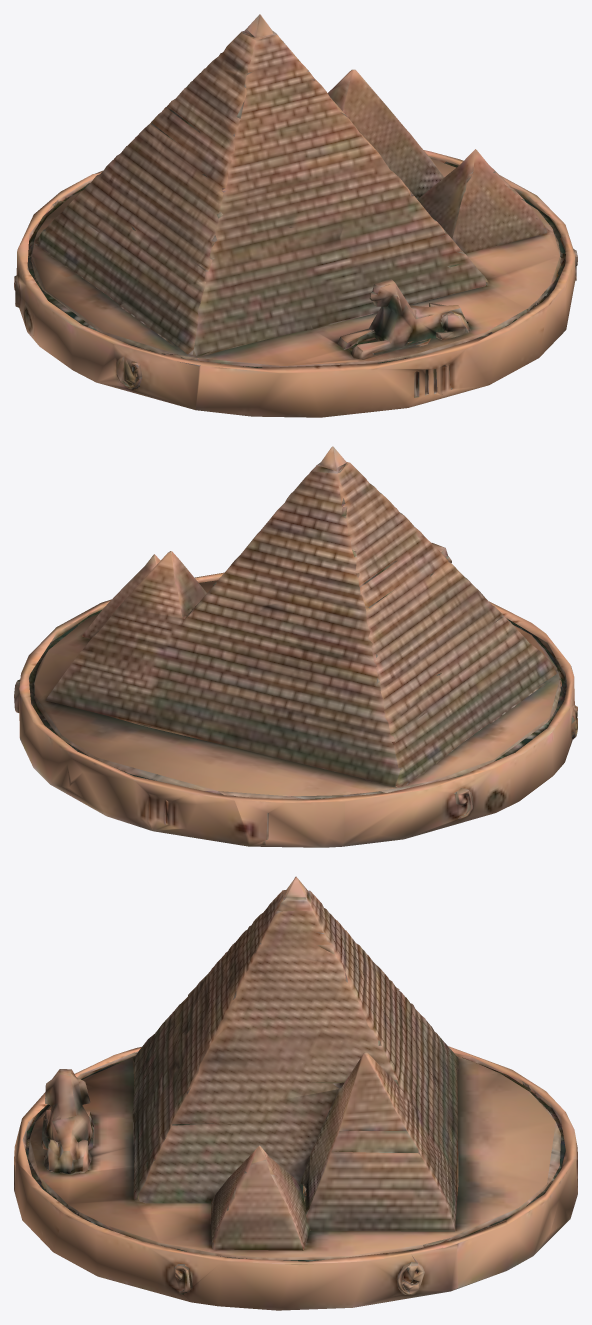
Rendered from pyramid_giza_celestial.glb.
3 views of the same model, one above another, from view 1: azimuth 30°, elevation 25°; view 2: azimuth 150°, elevation 25°; view 3: azimuth 270°, elevation 25° (orthographic).
Parts seen in each view (by area): view 1: Mesh_0; view 2: Mesh_0; view 3: Mesh_0.
Boxes of the visible parts, x1,y1,x2,y2 form: Mesh_0: (14, 14, 577, 417); Mesh_0: (14, 446, 577, 847); Mesh_0: (14, 876, 577, 1310).
Size of the model in its own units: 1.9 by 1.12 by 1.91.
1 material, 1 textured.
